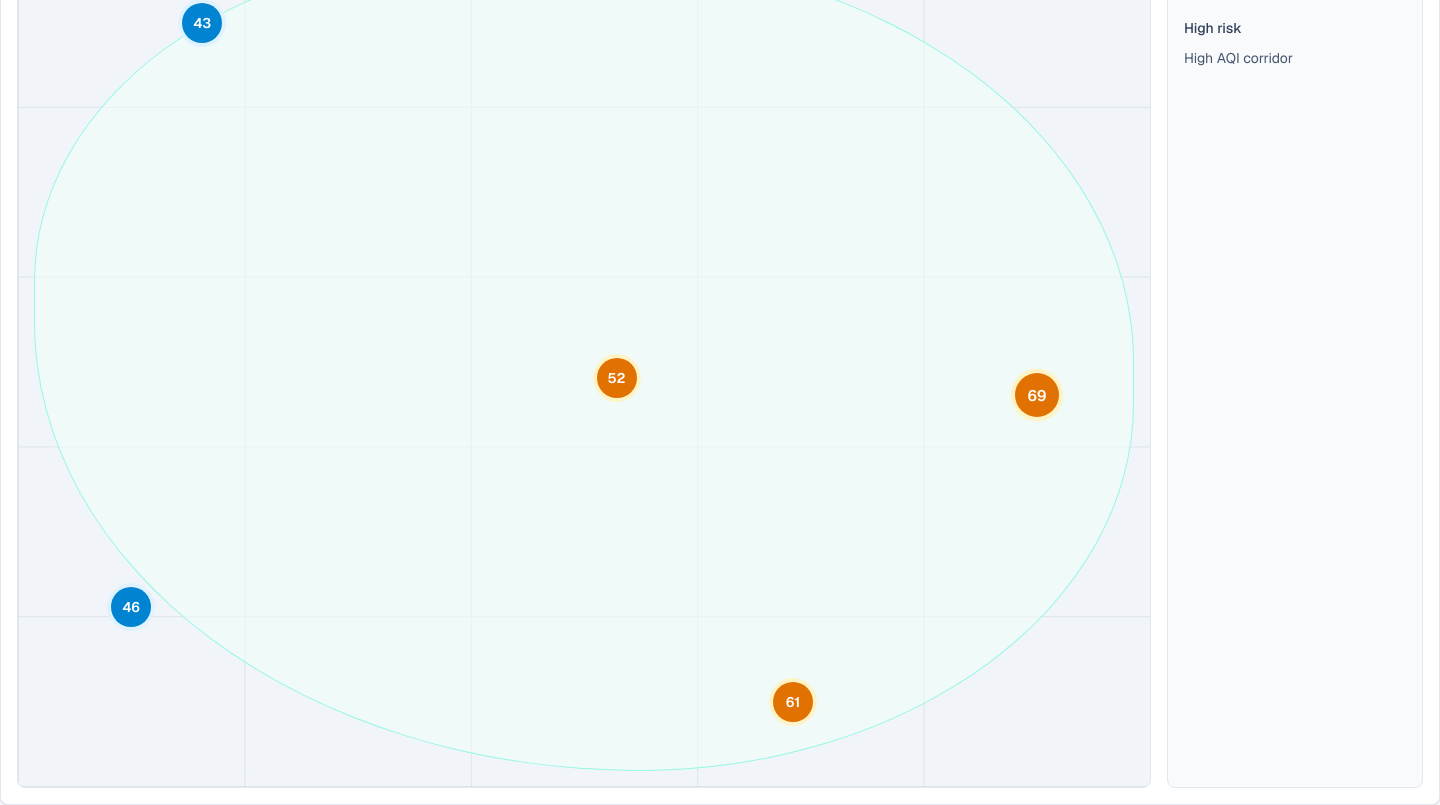
it: PriorityMap › renders score markers and updates selected area details
The width and height of the screenshot is (1440, 805).
(page scrolled)
Expected: the button named "Select Anand Vihar, score 69, High risk" is shown, [1015, 373, 1059, 417]
Expected: the text "High AQI corridor" is shown, [1184, 49, 1293, 67]
Click the button named "Select Lajpat Nagar, score 61, High risk". click: (793, 702)
box: [773, 682, 813, 722]
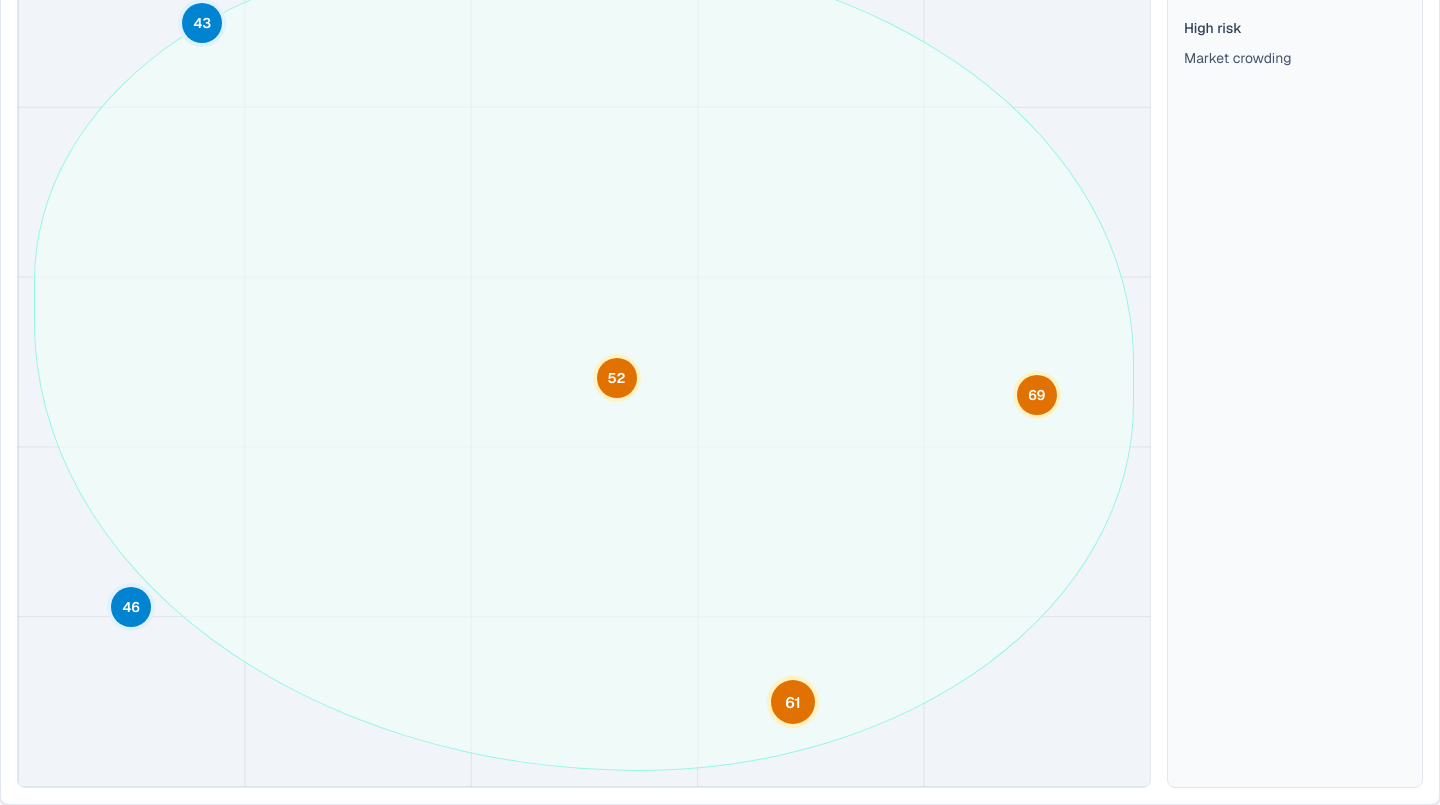
Result: the text "Market crowding" is shown at [1184, 49, 1292, 67]
